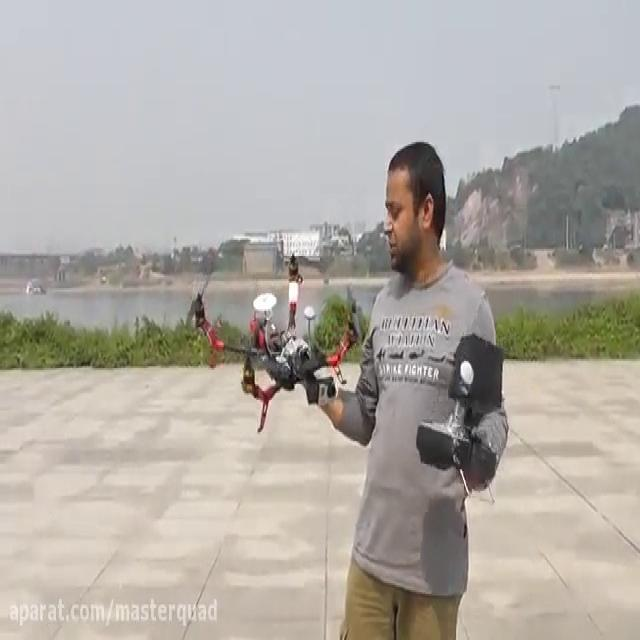drone: (179, 242, 365, 436)
